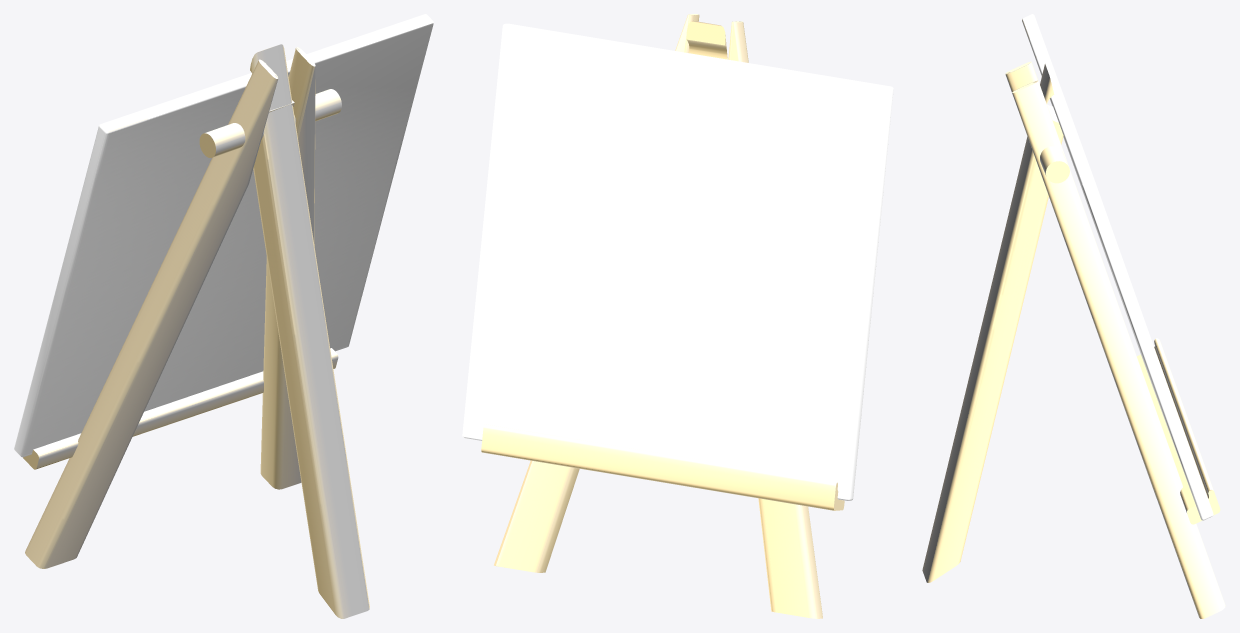
The model's file is eizel.gltf.
3 views of the same model, side by side, from view 1: azimuth 30°, elevation 25°; view 2: azimuth 150°, elevation 25°; view 3: azimuth 270°, elevation 25° (orthographic). The views are drawn at different scales.
Visible parts, largest first — view 1: canvas, Cube.1 (×2), Cube.2, Cube.4, Cylinder; view 2: canvas, Cube.4, Cube.1 (×2), Cube.2; view 3: Cube.1 (×2), canvas, Cube.4, Cylinder, Cube.2.
Boxes of the visible parts, x1=… form: canvas: x1=14, y1=14, x2=433, y2=457; Cube.1 (×2): x1=250, y1=44, x2=369, y2=618; Cube.2: x1=25, y1=59, x2=278, y2=568; Cube.4: x1=23, y1=348, x2=338, y2=469; Cylinder: x1=199, y1=89, x2=341, y2=157; canvas: x1=462, y1=23, x2=893, y2=500; Cube.4: x1=481, y1=424, x2=844, y2=510; Cube.1 (×2): x1=494, y1=14, x2=727, y2=572; Cube.2: x1=728, y1=21, x2=822, y2=618; Cube.1 (×2): x1=922, y1=64, x2=1225, y2=618; canvas: x1=1022, y1=14, x2=1213, y2=520; Cube.4: x1=1137, y1=338, x2=1220, y2=524; Cylinder: x1=1040, y1=146, x2=1069, y2=183; Cube.2: x1=1005, y1=61, x2=1155, y2=496.
Bounding box in the file's own units: 4.11 × 5.37 × 2.97.
